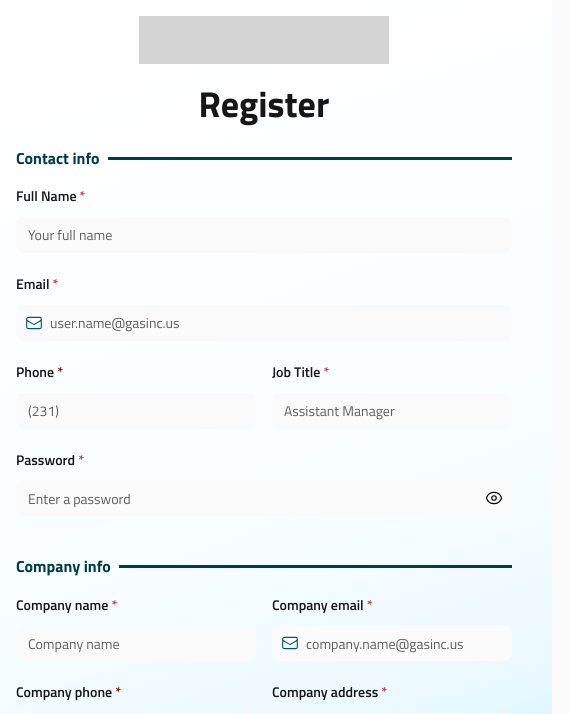
Test: RegisterForm Component › should toggle password input type when click on 'Show password' button
The image size is (569, 714).
Type "Abc1234!" into the password field with placeholder "Enter a password" at (264, 498), box [16,480,512,516]
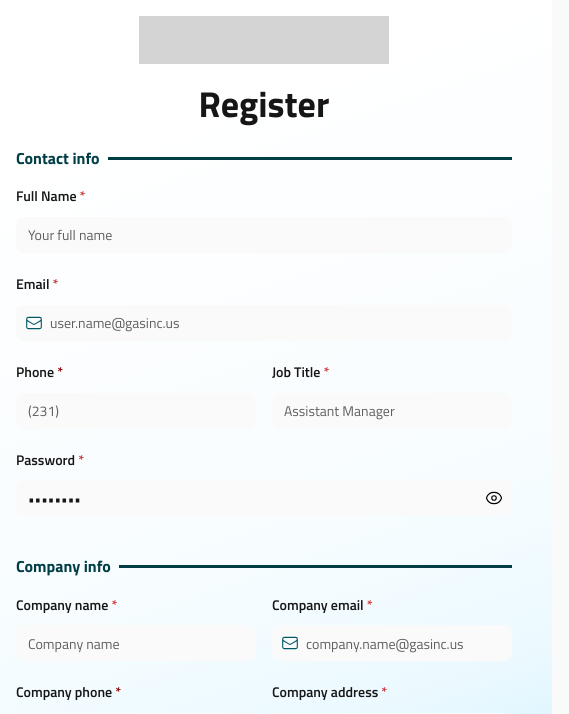
Press Tab
Click the button with test id "toggle-password" at (494, 498), box [479,488,509,508]
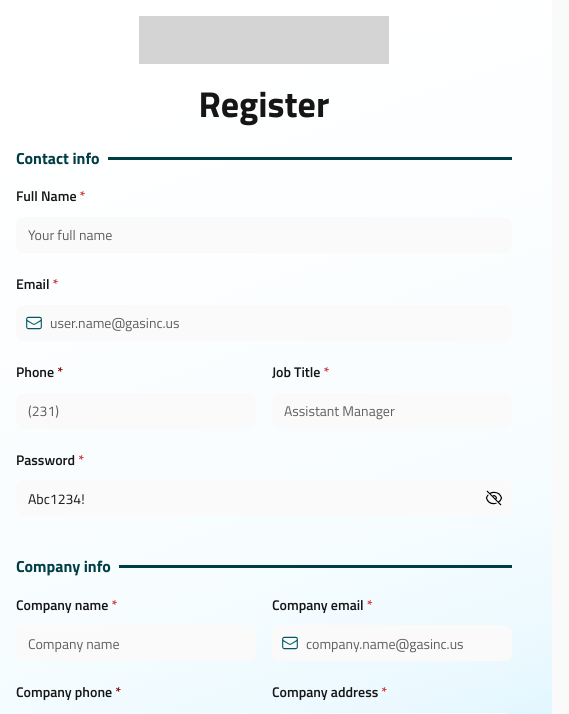
expect the field with placeholder "Enter a password" shows its text: met, box [16,480,512,516]
